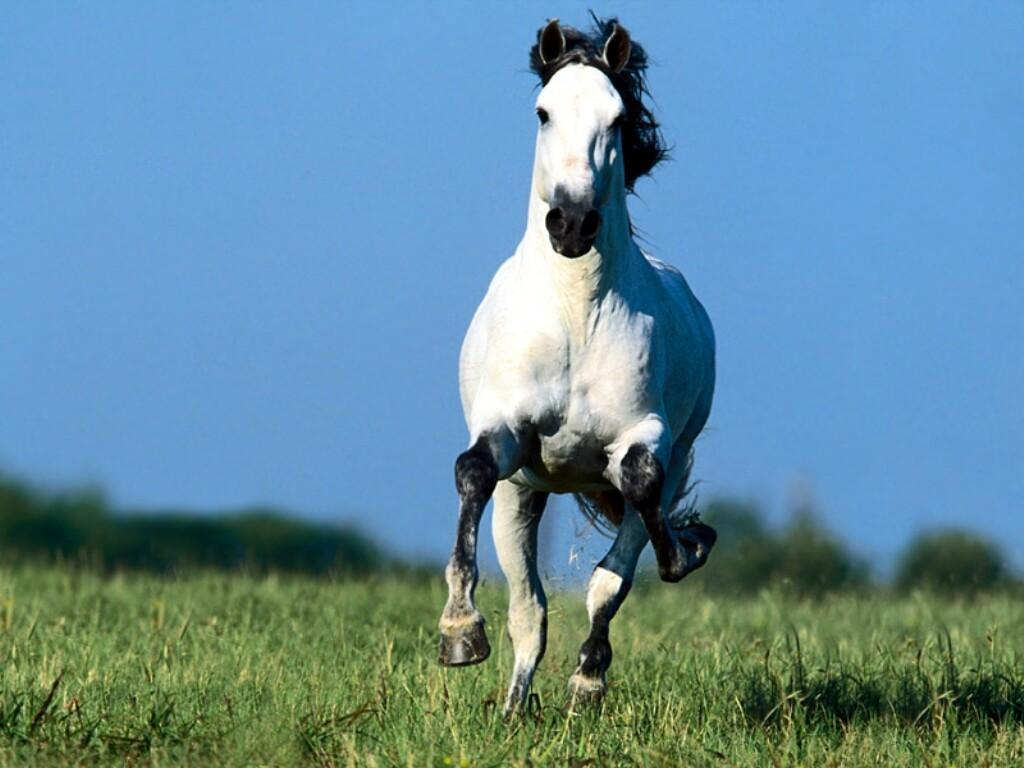horse: (423, 0, 732, 737)
